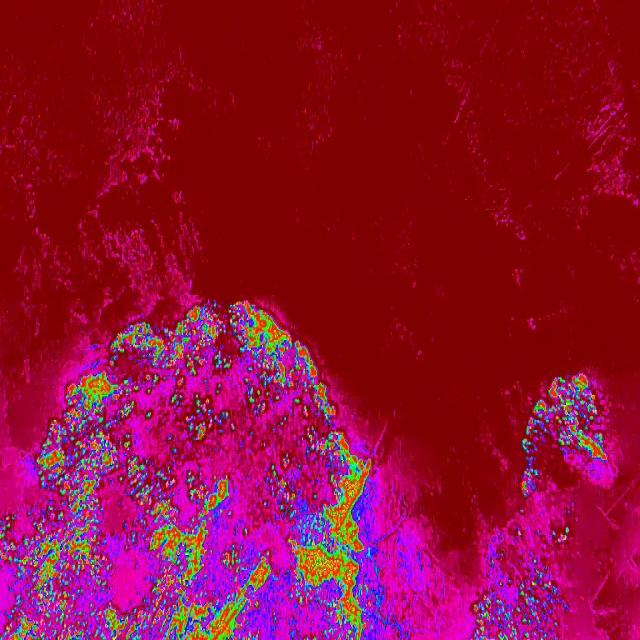fire: (0, 505, 386, 640), (35, 417, 373, 504), (62, 367, 337, 417), (110, 322, 316, 366), (518, 370, 610, 466), (469, 557, 567, 640), (182, 296, 274, 322), (520, 465, 540, 496)
